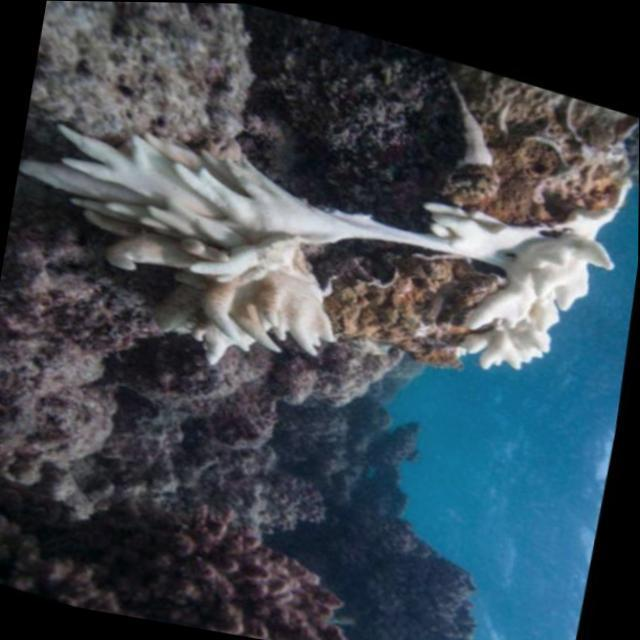Dead Coral: (0, 310, 349, 588), (325, 404, 558, 640), (248, 6, 474, 200)
